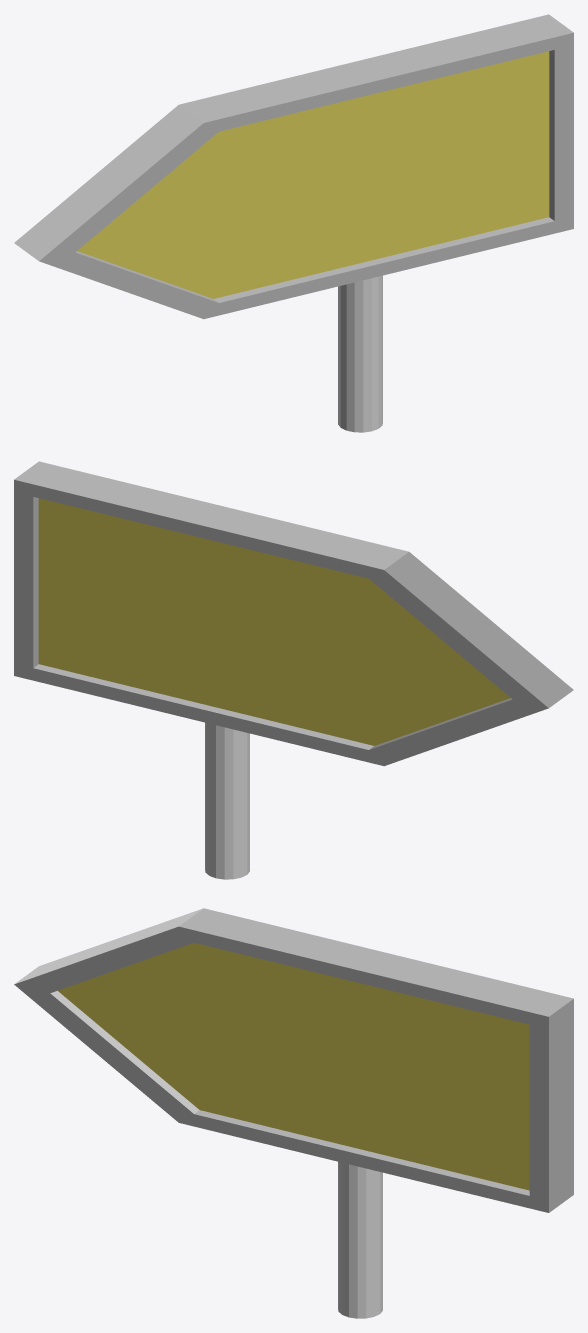
Rendered from PointingSign.fbx.
The picture shows the model from 3 angles, top to bottom: view 1: azimuth 30°, elevation 25°; view 2: azimuth 150°, elevation 25°; view 3: azimuth 330°, elevation 25°; orthographic projection.
Visible parts, largest first — view 1: Sign, Pole; view 2: Sign, Pole; view 3: Sign, Pole.
Part boxes in pixels (left/top/right/bottom): Sign: left=14, top=14, right=573, bottom=319; Pole: left=338, top=275, right=382, bottom=432; Sign: left=14, top=461, right=573, bottom=766; Pole: left=205, top=722, right=249, bottom=879; Sign: left=14, top=908, right=573, bottom=1212; Pole: left=338, top=1161, right=382, bottom=1318.
Bounding box in the file's own units: 4.44 × 2.78 × 0.3596.
